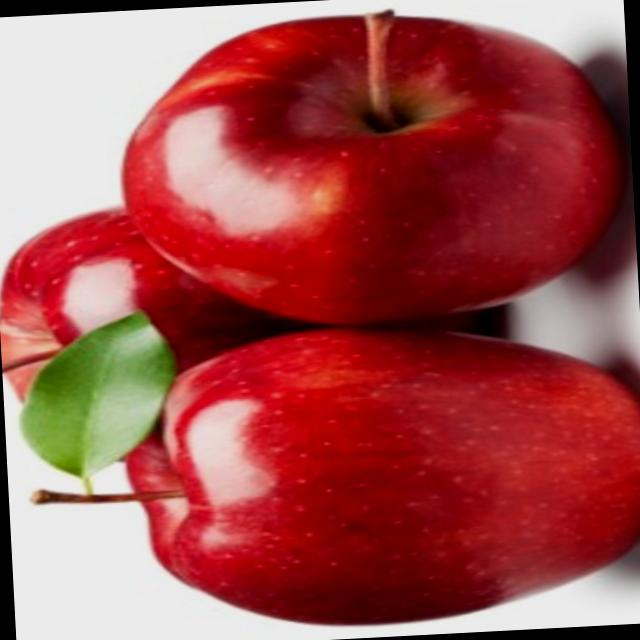apple: (99, 310, 640, 640), (114, 0, 632, 336)
